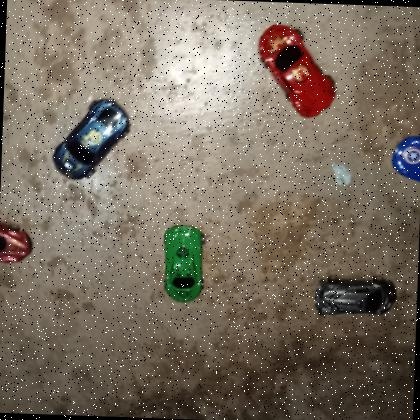Car: (253, 22, 341, 123), (52, 94, 131, 184), (312, 272, 400, 322), (160, 222, 210, 308)
